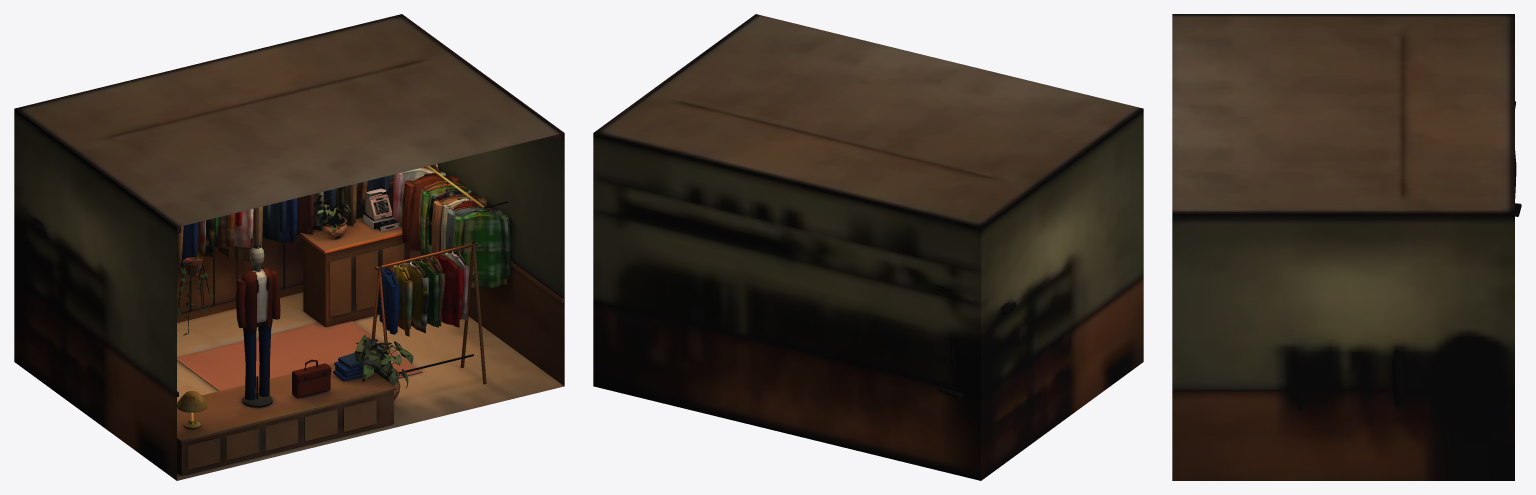
File: tz_wente_interior.glb
The picture shows the model from 3 angles, left to right: view 1: azimuth 30°, elevation 25°; view 2: azimuth 150°, elevation 25°; view 3: azimuth 270°, elevation 25°; orthographic projection. The views are drawn at different scales.
Visible parts, largest first — view 1: wente_interior; view 2: wente_interior; view 3: wente_interior.
Part boxes in pixels (x1=…): wente_interior: x1=14, y1=14, x2=564, y2=480; wente_interior: x1=593, y1=14, x2=1143, y2=480; wente_interior: x1=1172, y1=14, x2=1521, y2=480.
Size of the model in its own units: 5.03 by 3.1 by 3.67.
Materials: 1 (1 with a texture image).
